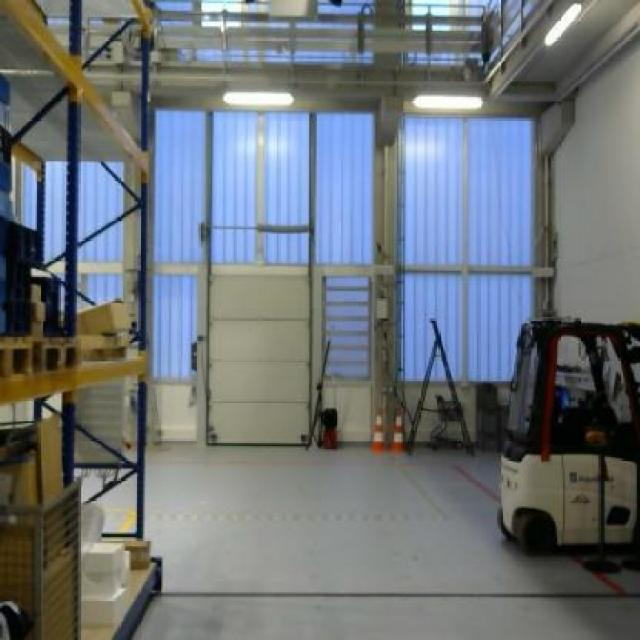box: (75, 298, 132, 334)
